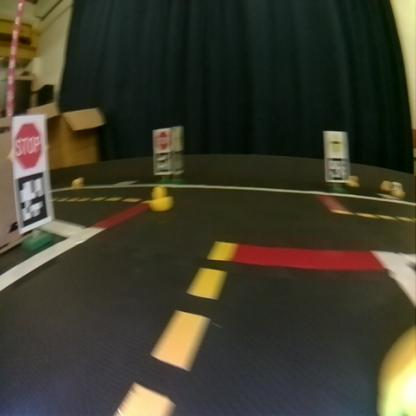Duckie: (148, 186, 172, 211), (345, 174, 359, 186)
Intersection sign: (324, 133, 346, 155)
QR code: (14, 171, 47, 227), (325, 156, 348, 180), (155, 152, 169, 170)
Stop sign: (13, 120, 44, 168), (154, 130, 168, 149)
